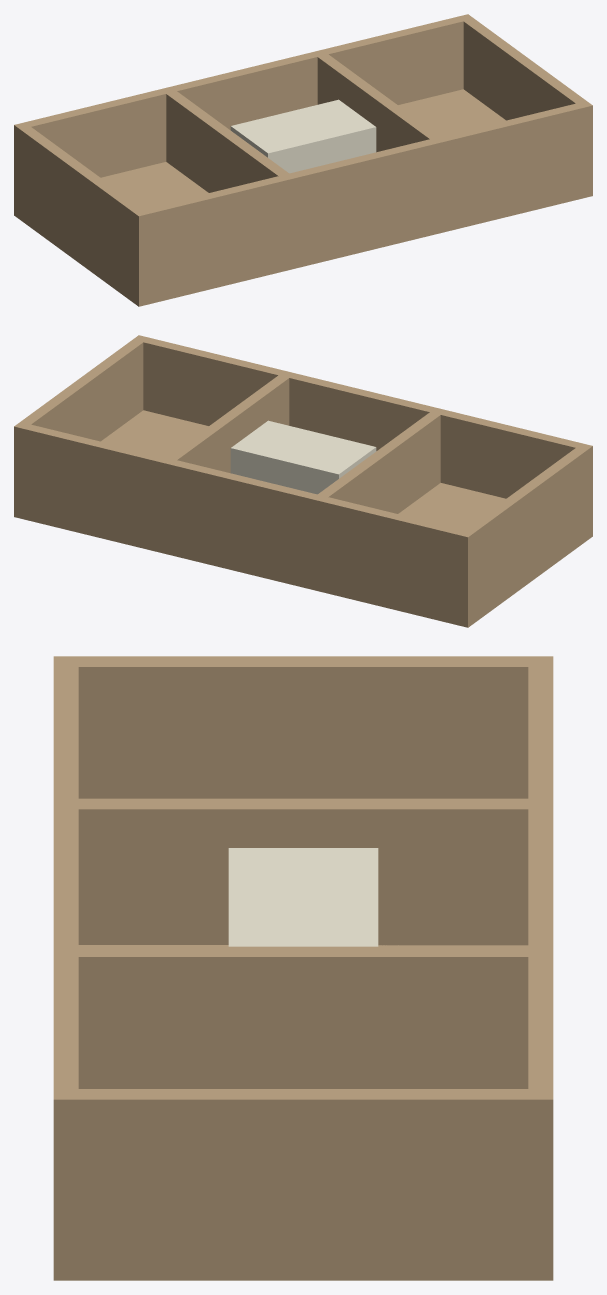
Rendered from prop-soap-mold-tray.fbx.
3 renders of one model, top to bottom at view 1: azimuth 30°, elevation 25°; view 2: azimuth 150°, elevation 25°; view 3: azimuth 270°, elevation 25°, orthographic. The views are drawn at different scales.
Visible parts, largest first — view 1: prop-soap-mold-tray; view 2: prop-soap-mold-tray; view 3: prop-soap-mold-tray.
Boxes of the visible parts, <box> form: prop-soap-mold-tray: <box>14,14,592,306</box>; prop-soap-mold-tray: <box>14,335,592,627</box>; prop-soap-mold-tray: <box>53,656,553,1280</box>.
Bounding box in the file's own units: 42 × 8 × 20.
